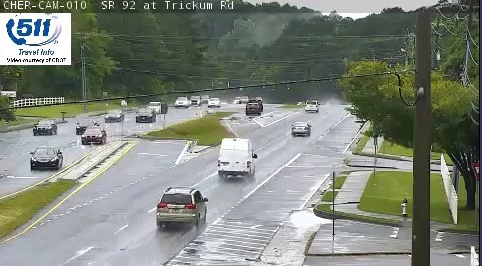car: (157, 189, 206, 223), (292, 122, 310, 136), (305, 100, 318, 112)
van: (218, 139, 253, 175)
